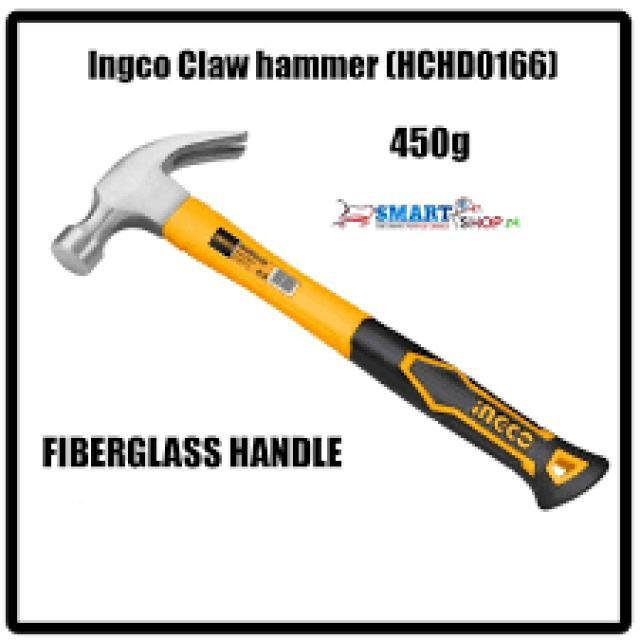hammer: (32, 104, 618, 528)
